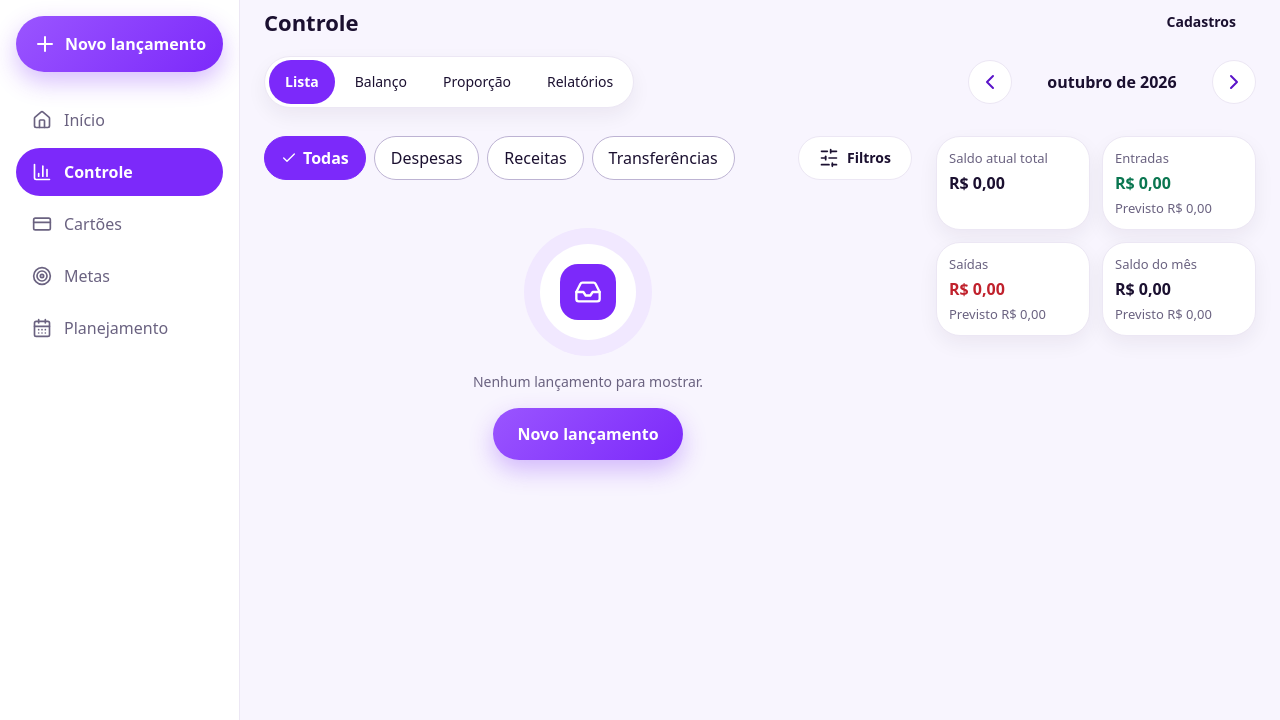
menu "+" (CA-0.02) › a opção "Despesa no cartão" fecha o menu e abre o formulário "Nova despesa no cartão"
Check: the heading "Controle" is shown, box [264,7,358,37]
Click the 1st button "Novo lançamento": (120, 44) [16,16,223,72]
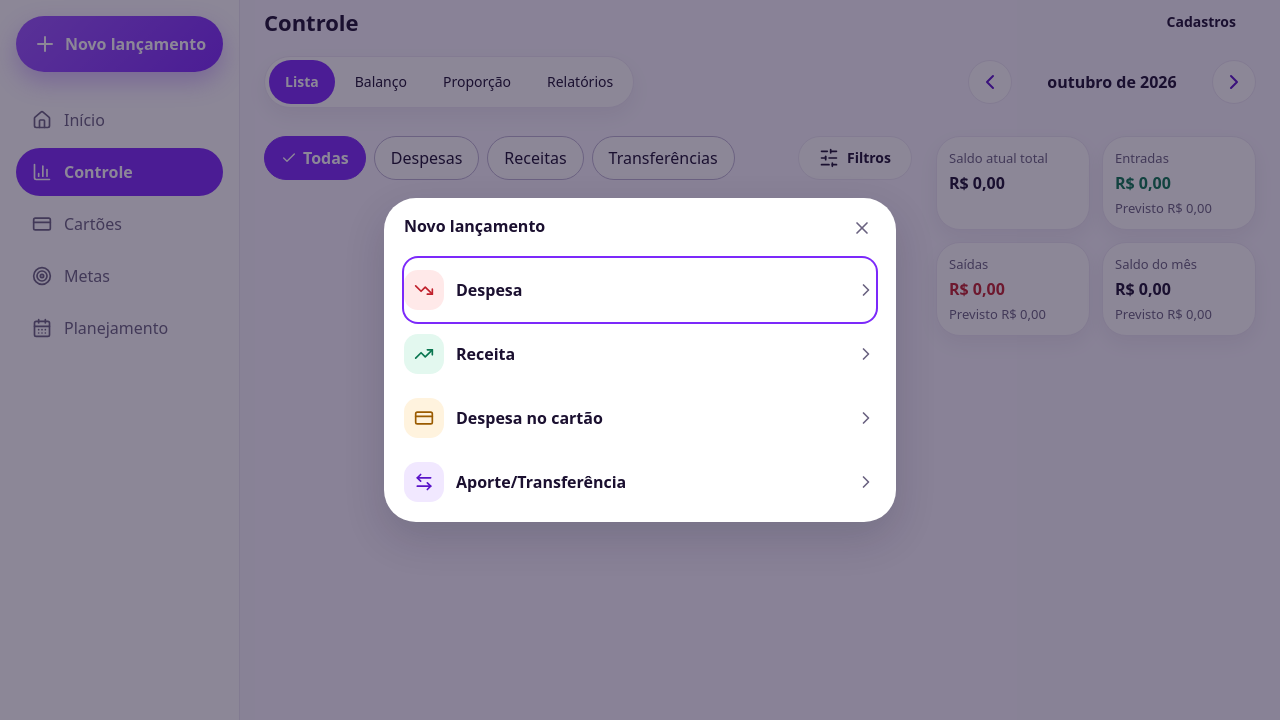
Click the button "Despesa no cartão": (424, 418) [404,386,876,450]
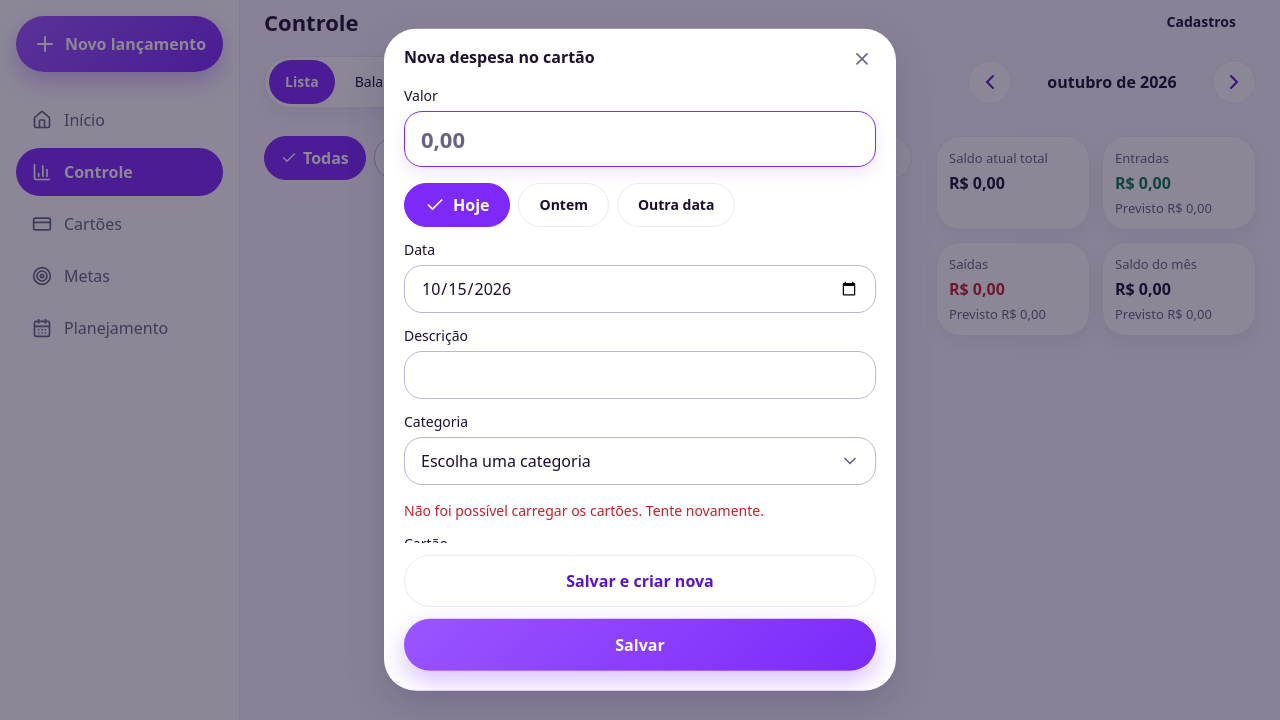
Check: the dialog "Nova despesa no cartão" is shown, box [384,29,896,691]
